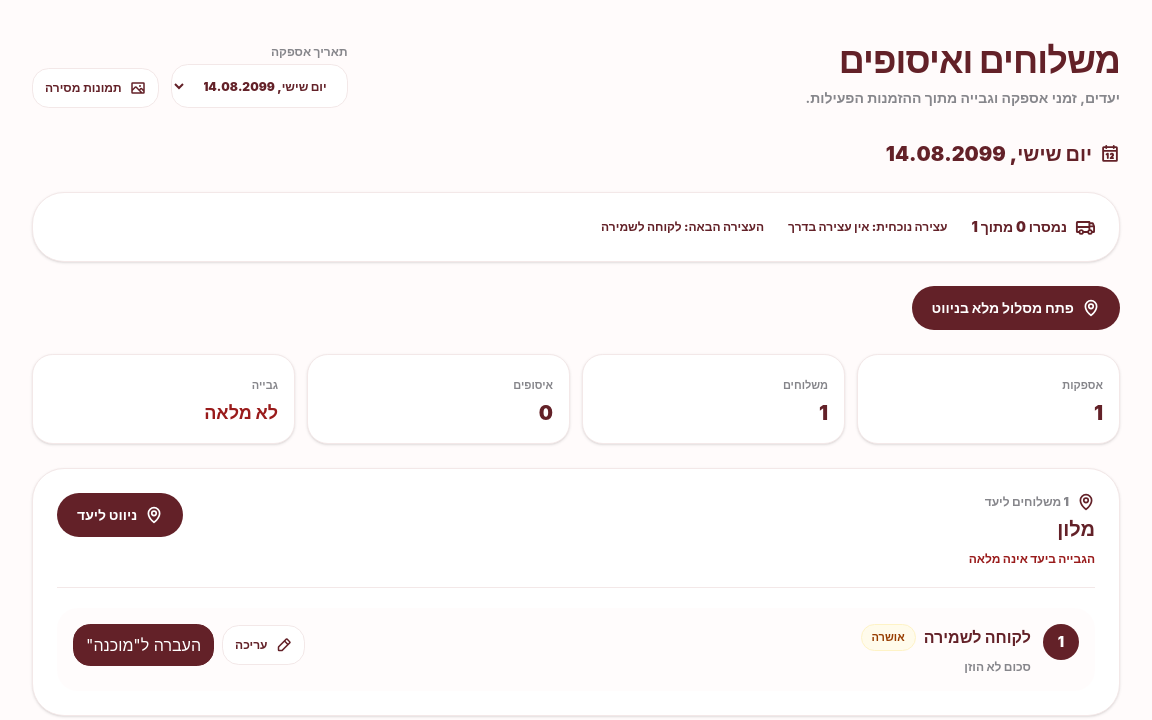
Test: DeliveriesScreen › writes only the next status after an explicit click and preserves every other field
Click the button with aria-label "עדכון לקוחה לשמירה לסטטוס מוכנה" at coordinates (144, 645), box [73, 624, 214, 666]
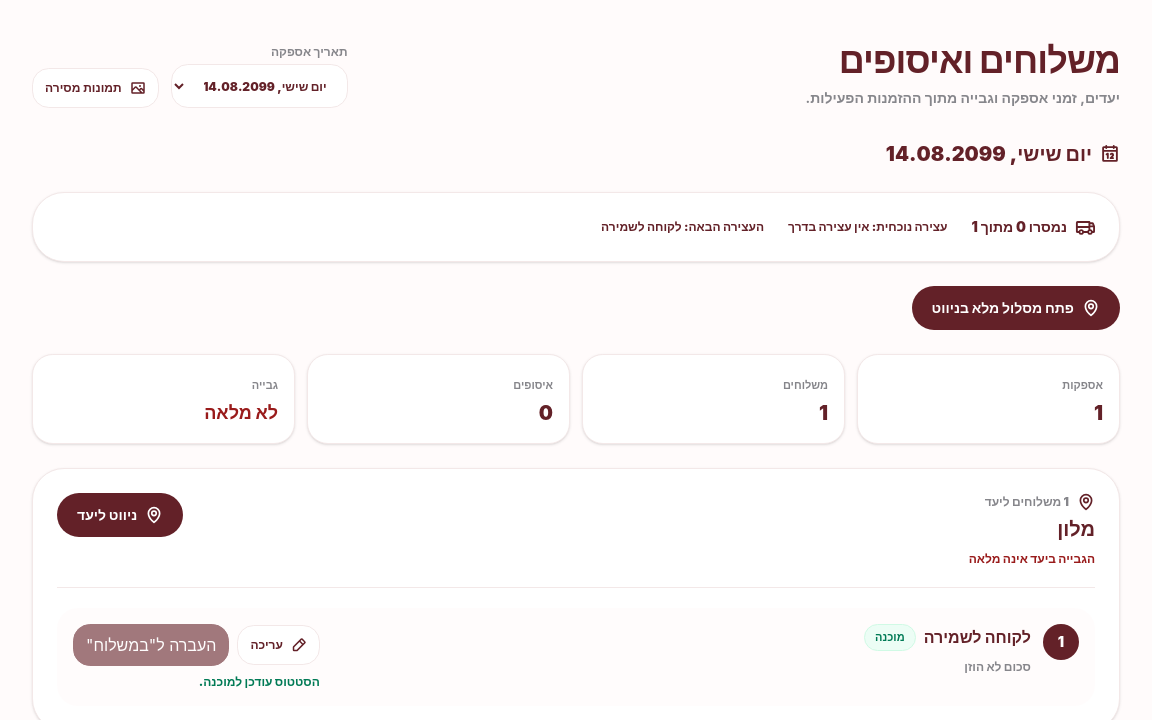
Expected: the text "הסטטוס עודכן למוכנה." is shown, [199, 674, 320, 689]
Expected: the text "מוכנה" is shown, [864, 624, 916, 650]
Expected: the button with aria-label "עדכון לקוחה לשמירה לסטטוס במשלוח" reads "העברה ל\"במשלוח\"", [73, 624, 229, 666]
